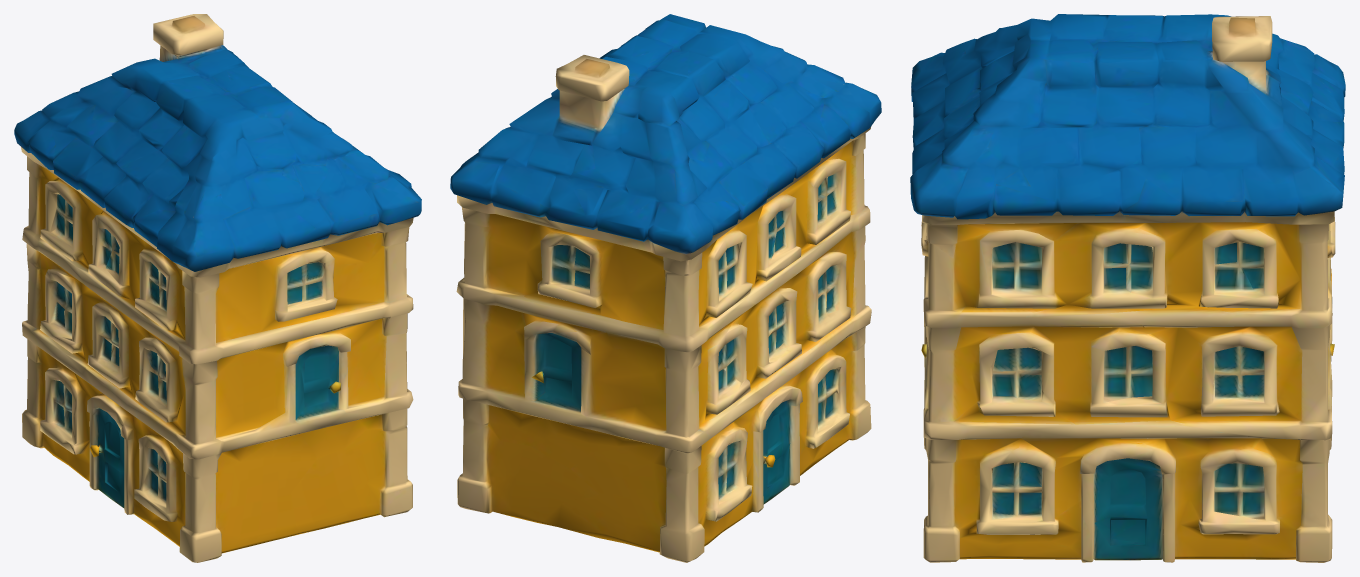
The model's file is grandma-house.glb.
3 views of the same model, side by side, from view 1: azimuth 30°, elevation 25°; view 2: azimuth 150°, elevation 25°; view 3: azimuth 270°, elevation 25° (orthographic). The views are drawn at different scales.
Parts seen in each view (by area): view 1: tripo_node_44814b10-dcca-4a2e-a59f-a83579afea25; view 2: tripo_node_44814b10-dcca-4a2e-a59f-a83579afea25; view 3: tripo_node_44814b10-dcca-4a2e-a59f-a83579afea25.
Part boxes in pixels (left/top/right/bottom): tripo_node_44814b10-dcca-4a2e-a59f-a83579afea25: left=14, top=14, right=421, bottom=562; tripo_node_44814b10-dcca-4a2e-a59f-a83579afea25: left=450, top=14, right=881, bottom=562; tripo_node_44814b10-dcca-4a2e-a59f-a83579afea25: left=910, top=14, right=1345, bottom=562.
Size of the model in its own units: 0.6155 by 1 by 0.8018.
Materials: 1 (1 with a texture image).
